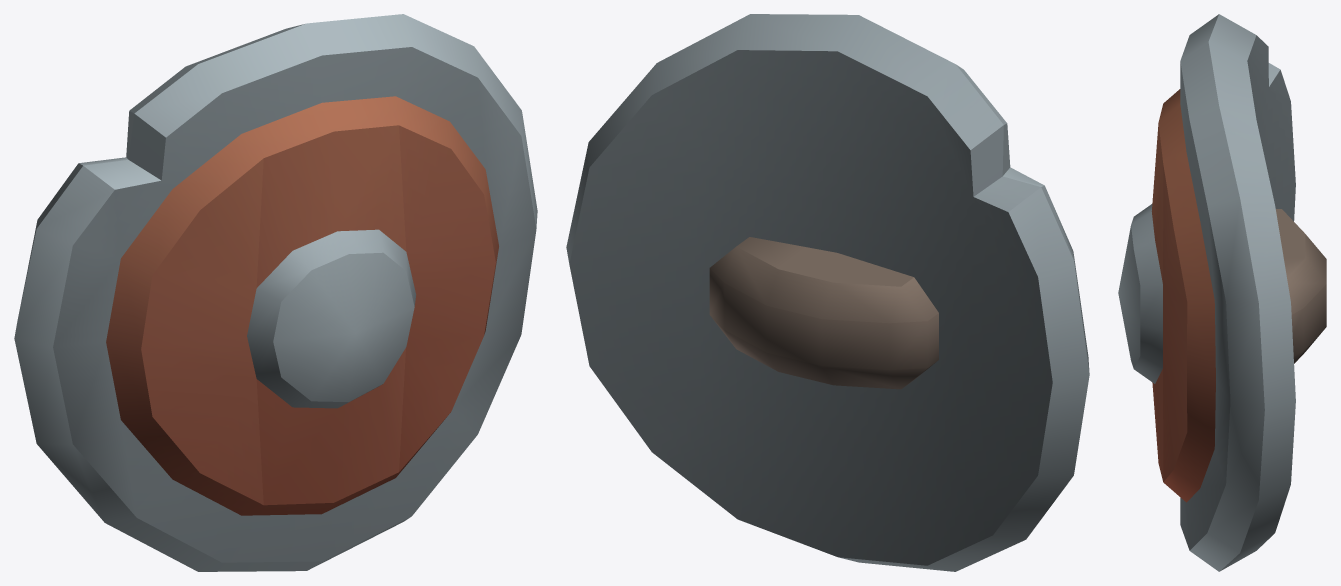
Rendered from shield_round.glb.
3 renders of one model, left to right at view 1: azimuth 30°, elevation 25°; view 2: azimuth 150°, elevation 25°; view 3: azimuth 270°, elevation 25°, orthographic. The views are drawn at different scales.
Parts seen in each view (by area): view 1: shield_round; view 2: shield_round; view 3: shield_round.
Boxes of the visible parts, x1,y1,x2,y2 form: shield_round: [14, 14, 537, 571]; shield_round: [566, 14, 1089, 571]; shield_round: [1118, 14, 1326, 571].
Size of the model in its own units: 0.8826 by 0.8826 by 0.3319.
Materials: 1 (1 with a texture image).
